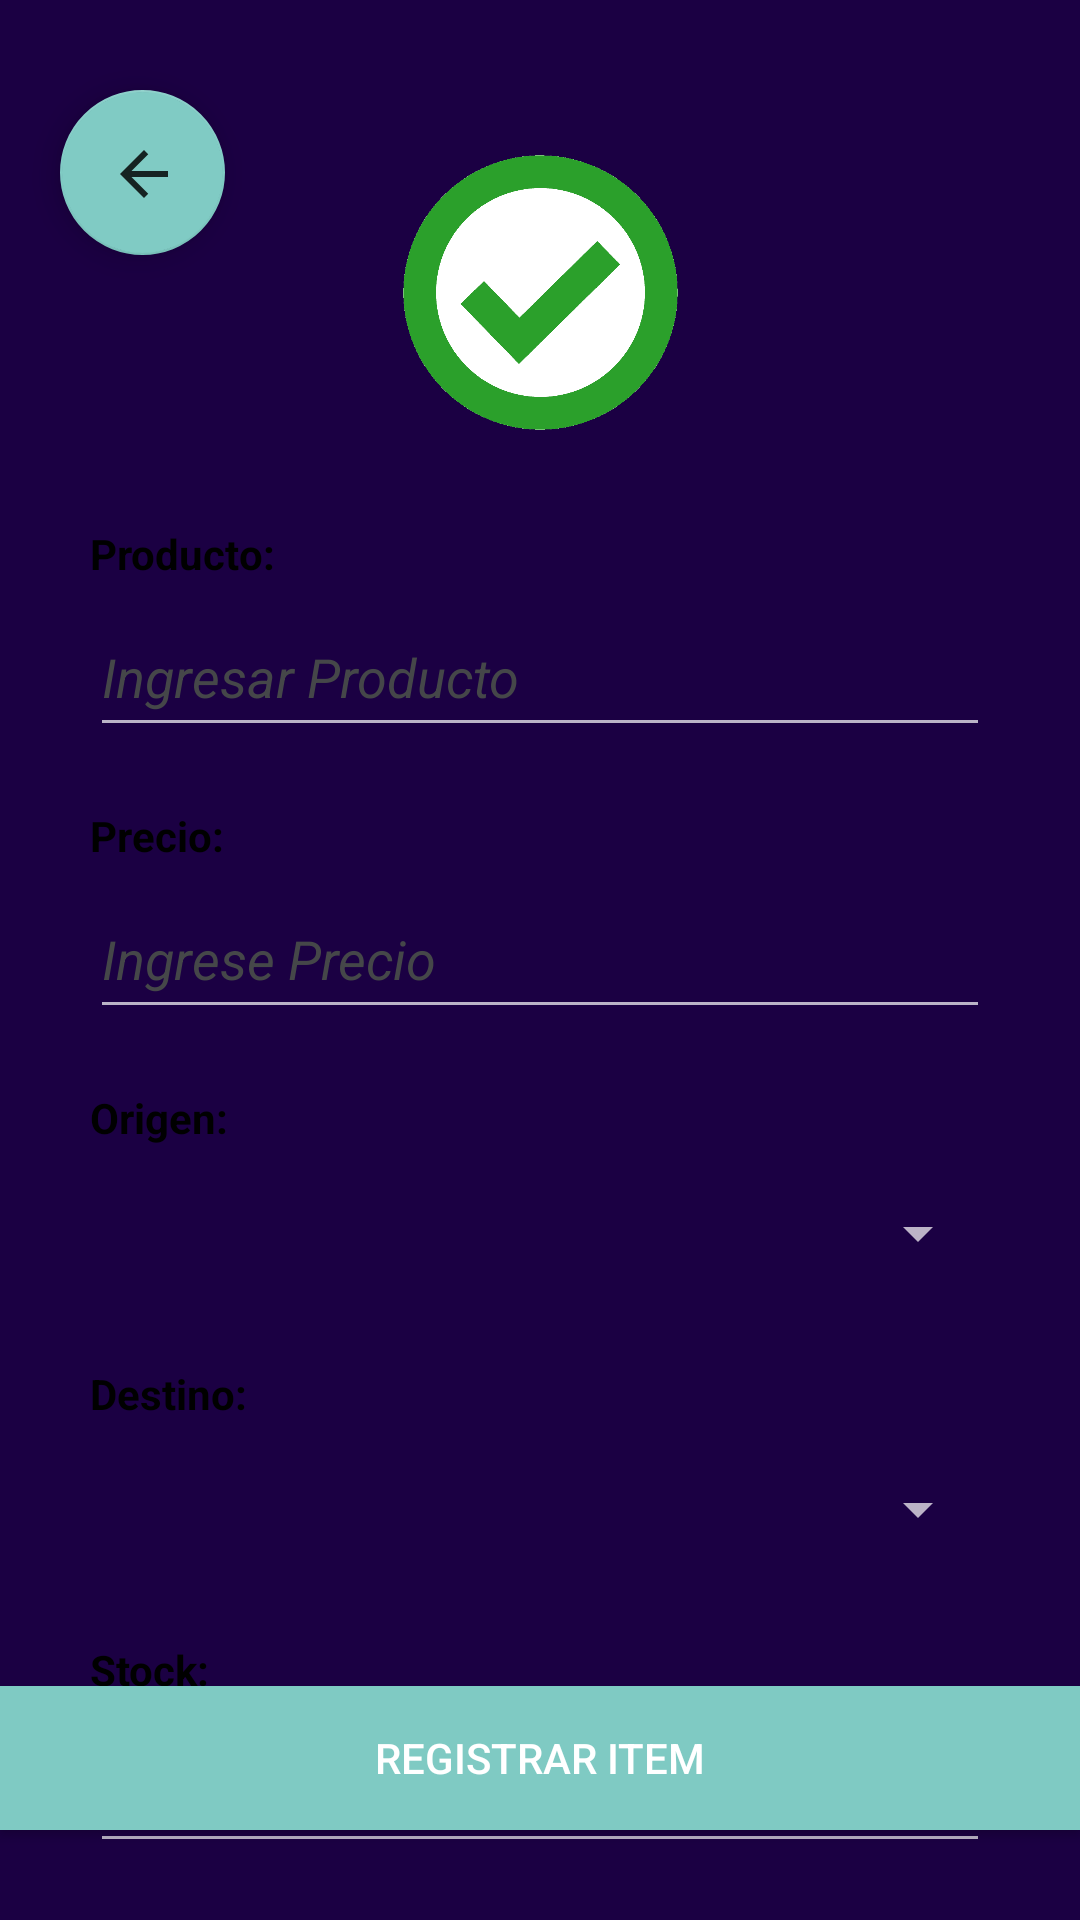

Where to tap for icons on this 1080 x 1920 app screen, as point (x, y):
atras: point (142, 172)
check: point (540, 292)
